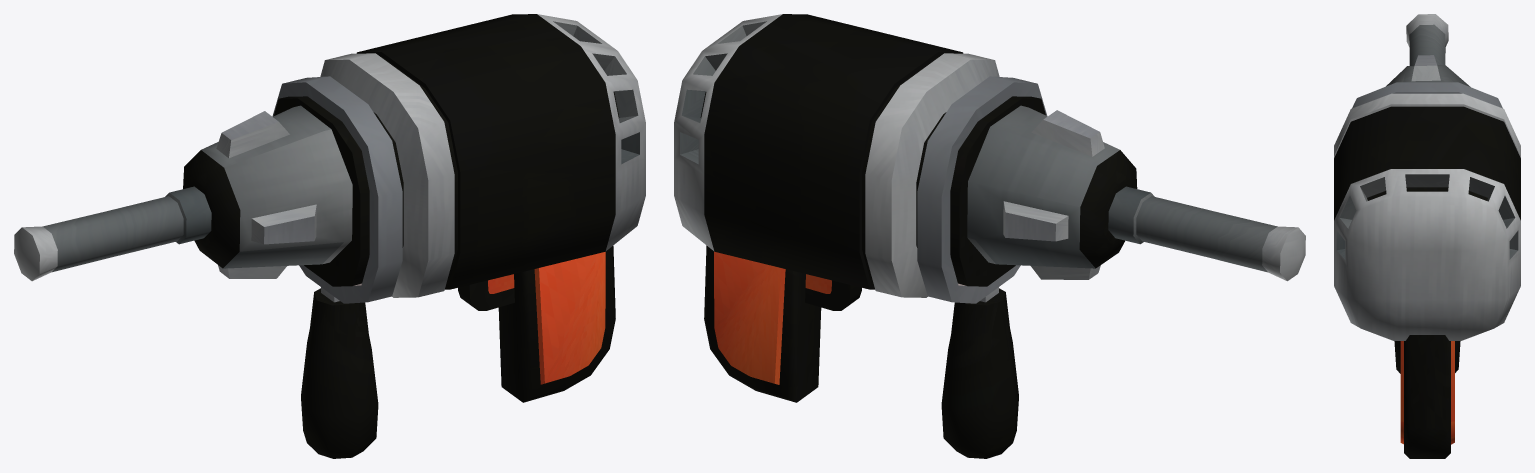
File: e_drill_big.fbx
3 renders of one model, left to right at view 1: azimuth 30°, elevation 25°; view 2: azimuth 150°, elevation 25°; view 3: azimuth 270°, elevation 25°, orthographic. The views are drawn at different scales.
Parts seen in each view (by area): view 1: power_drill; view 2: power_drill; view 3: power_drill.
Part boxes in pixels (x1,y1,x2,y2): power_drill: [14, 14, 645, 458]; power_drill: [674, 14, 1305, 458]; power_drill: [1334, 14, 1520, 458].
Bounding box in the file's own units: 50.63 × 29.73 × 16.76.
